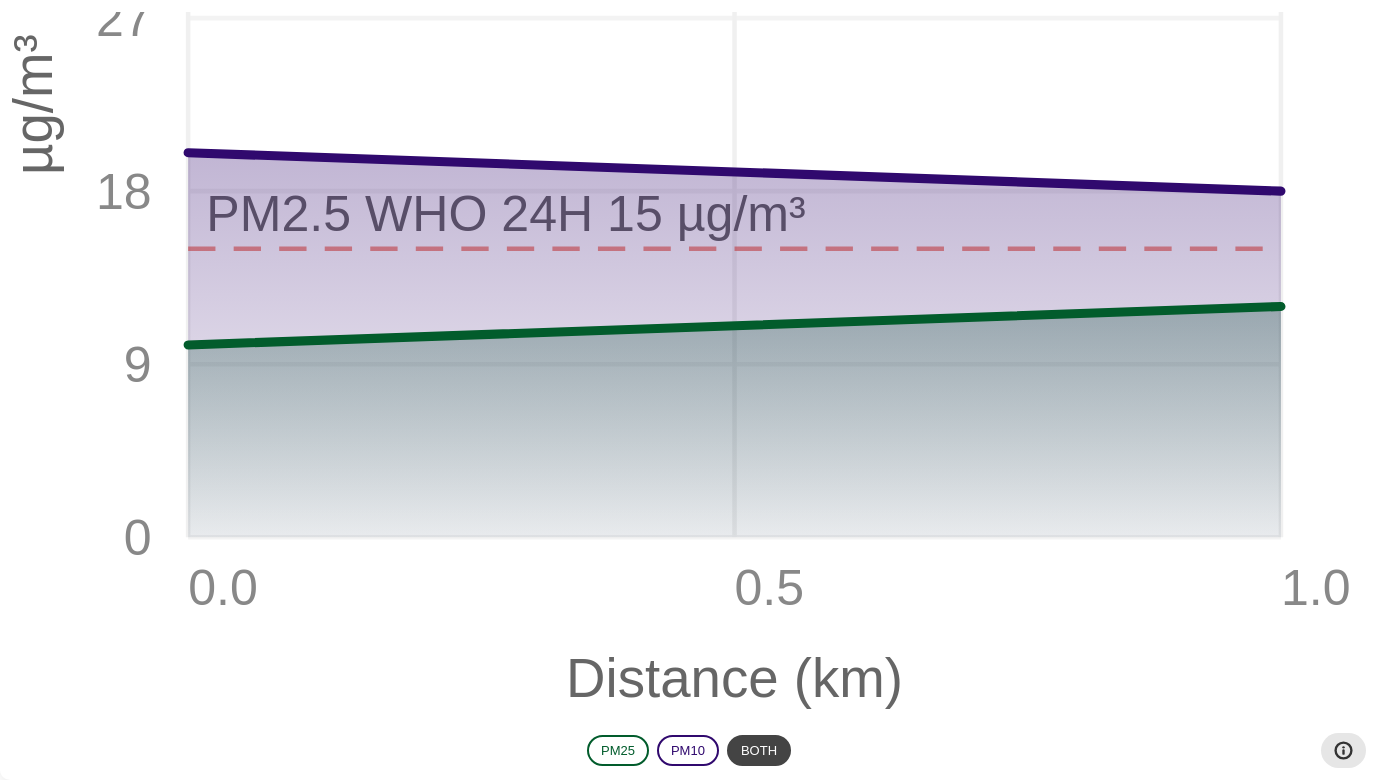
Test: ExposureChart › toggles PM25 / PM10 / BOTH modes
(page scrolled)
Step 1. Click the button "PM25" → click(618, 751), box [587,735,649,766]
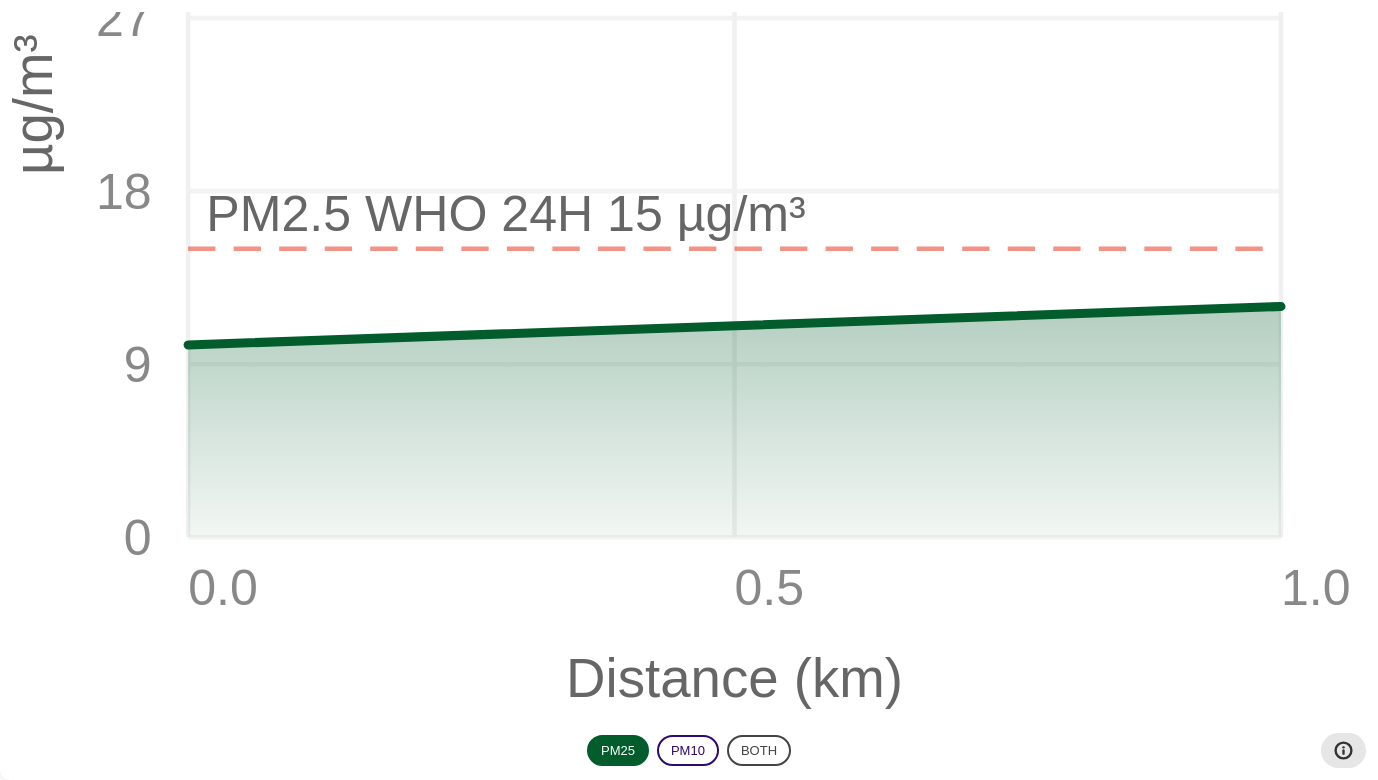
Expected: the text "PM10:" is not shown
Result: the button "PM25" has class "active" at [587,735,649,766]
Step 2. Click the button "PM10" → click(688, 751), box [657,735,719,766]
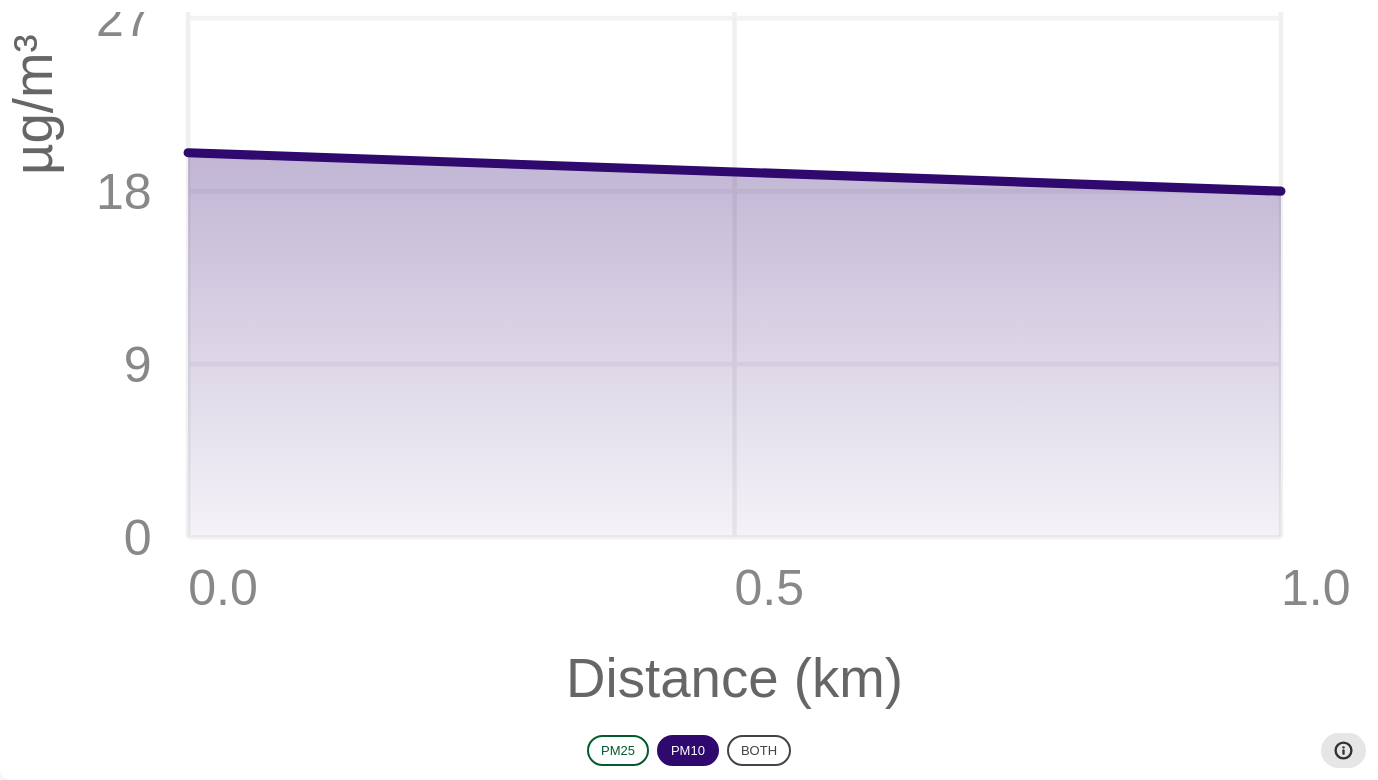
Expected: the text "PM2.5:" is not shown
Result: the button "PM10" has class "active" at [657,735,719,766]
Step 3. Click the button "BOTH" → click(759, 751), box [727,735,791,766]
(page scrolled)
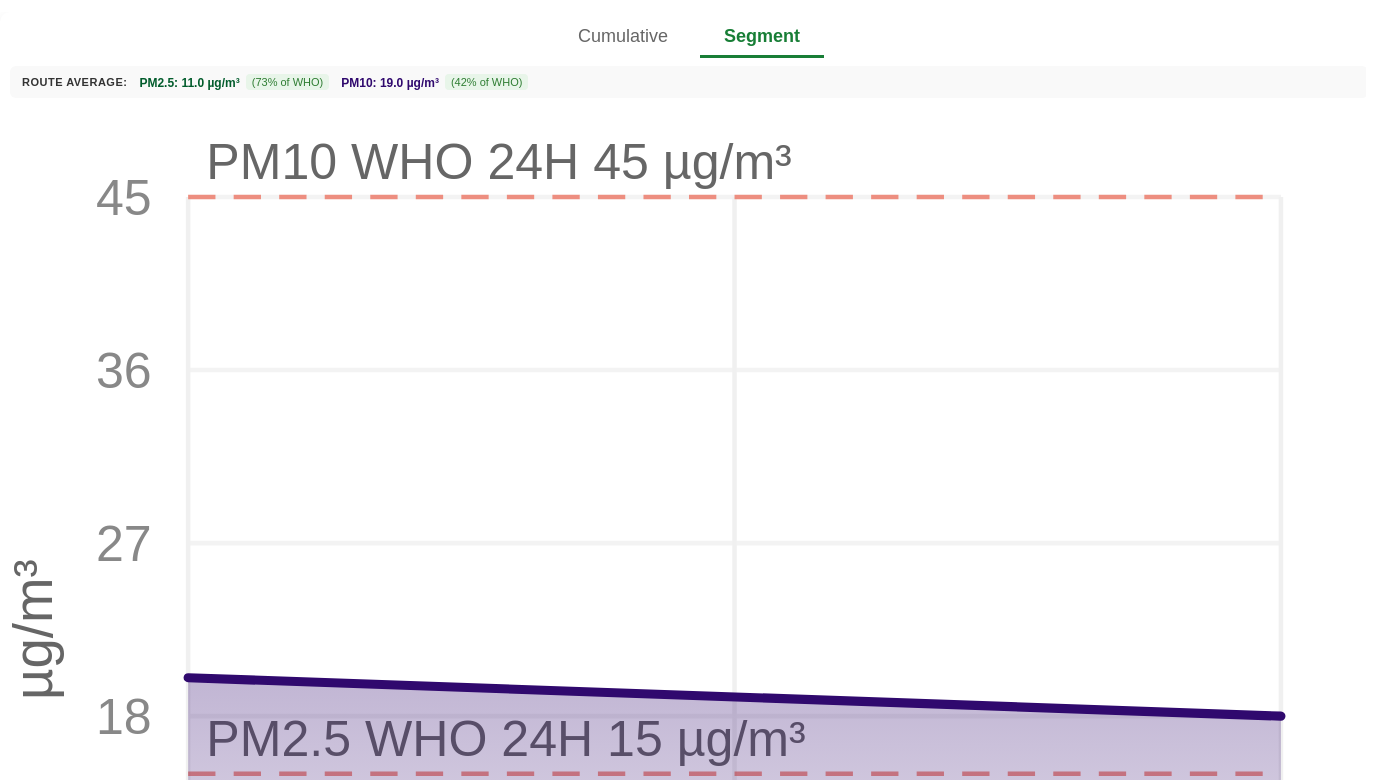
Result: the text "PM2.5: 11.0 µg/m³" is shown at [139,74,240,90]
Result: the text "PM10: 19.0 µg/m³" is shown at [341,74,439,90]
